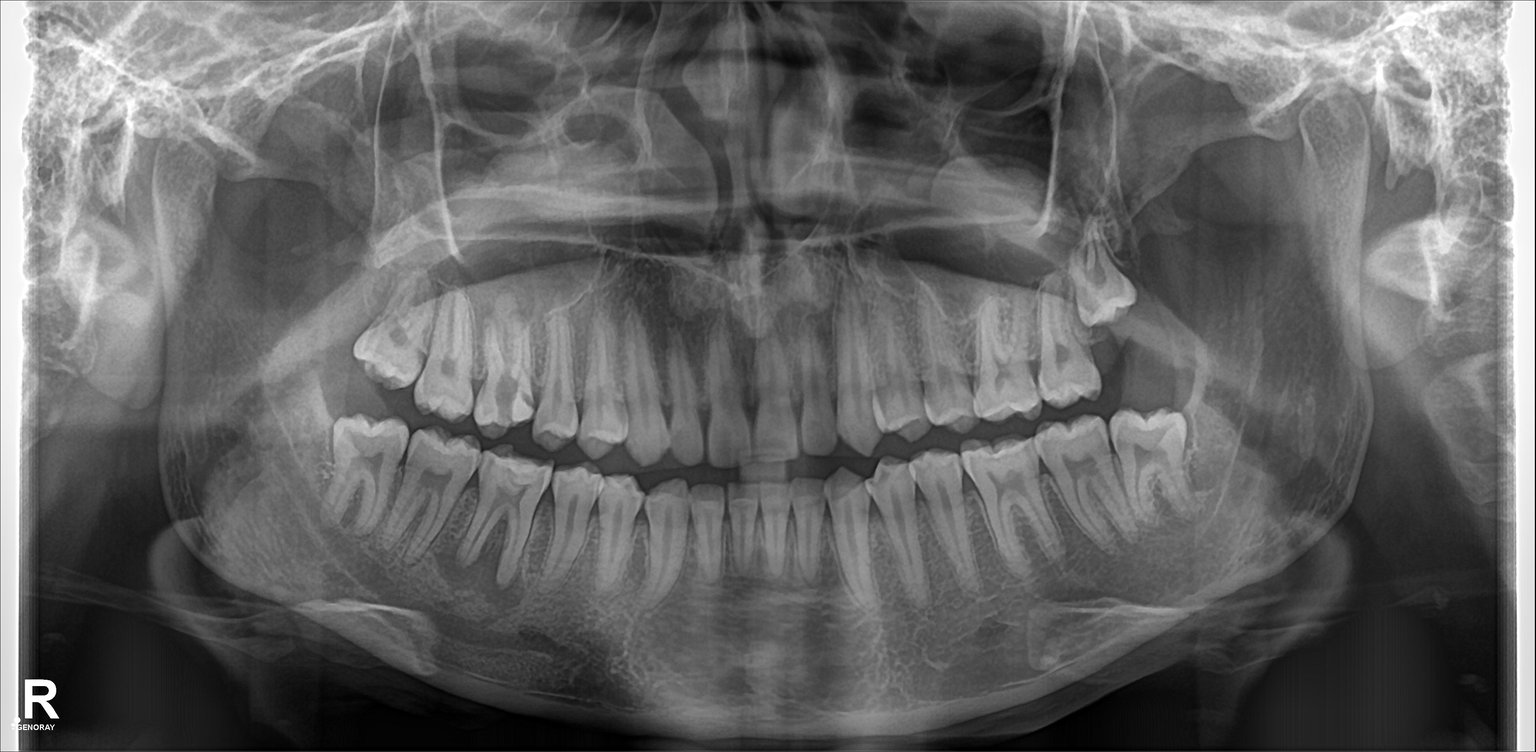Impacted Third Molar: (1067, 240, 1140, 329)
Periapical Lesion: (443, 497, 556, 584)
